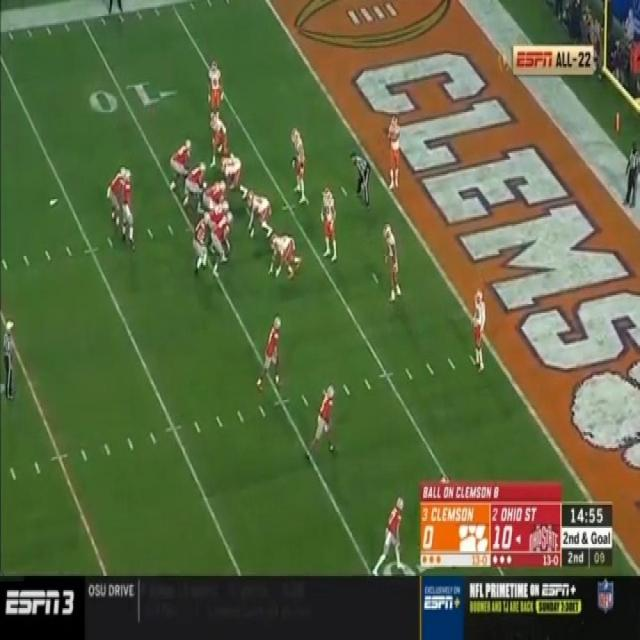center: (204, 183, 226, 212)
db: (380, 111, 400, 185), (388, 228, 405, 308), (472, 287, 490, 358), (207, 60, 223, 104)
lb: (317, 186, 338, 253), (294, 130, 306, 202)
qb: (123, 174, 134, 240)
